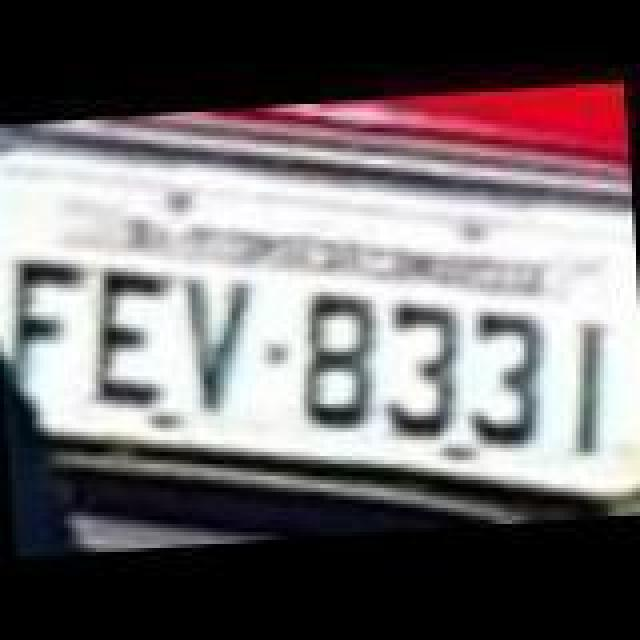1: (554, 320, 622, 464)
3: (458, 306, 550, 454), (380, 294, 468, 442)
8: (290, 286, 382, 434)
E: (78, 262, 178, 410)
F: (0, 256, 88, 400)
V: (182, 270, 266, 418)
